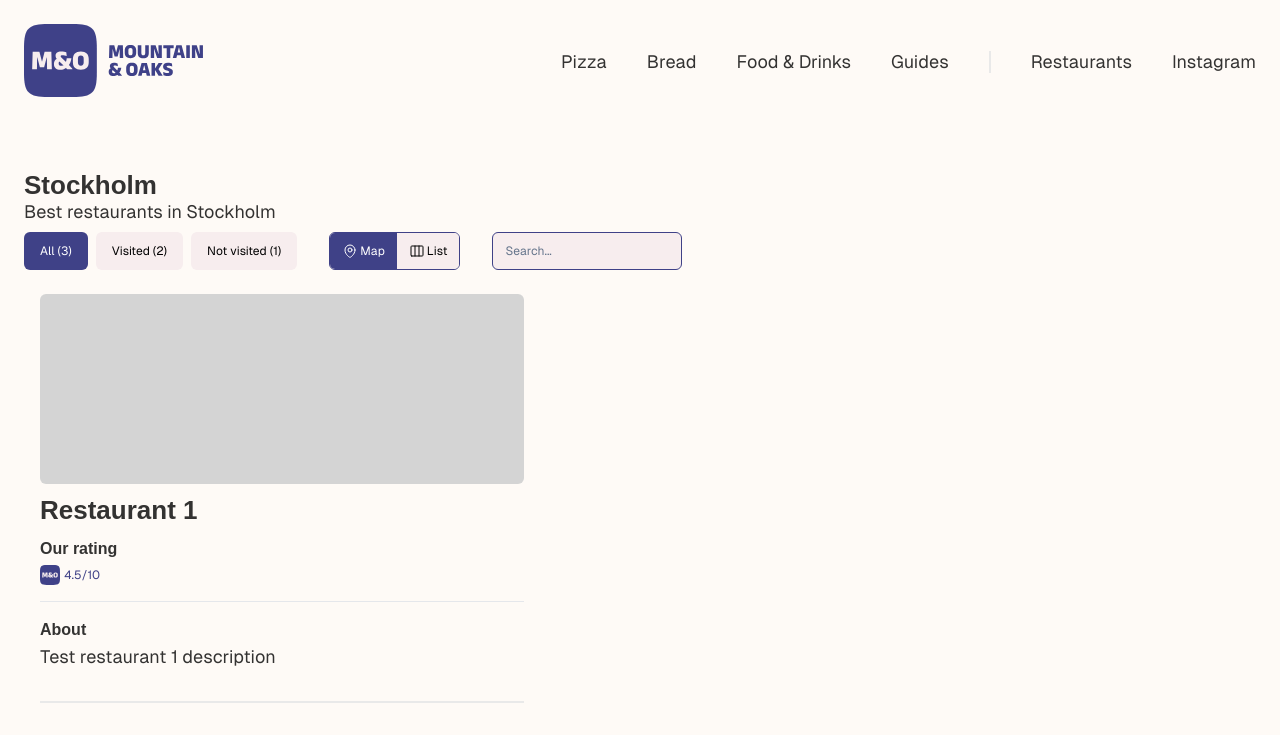
Scenario: RestaurantCity › filters restaurants based on not visited status
This screenshot has width=1280, height=735.
Click the button "Not visited (1)". click: (244, 251)
box: [191, 232, 297, 270]
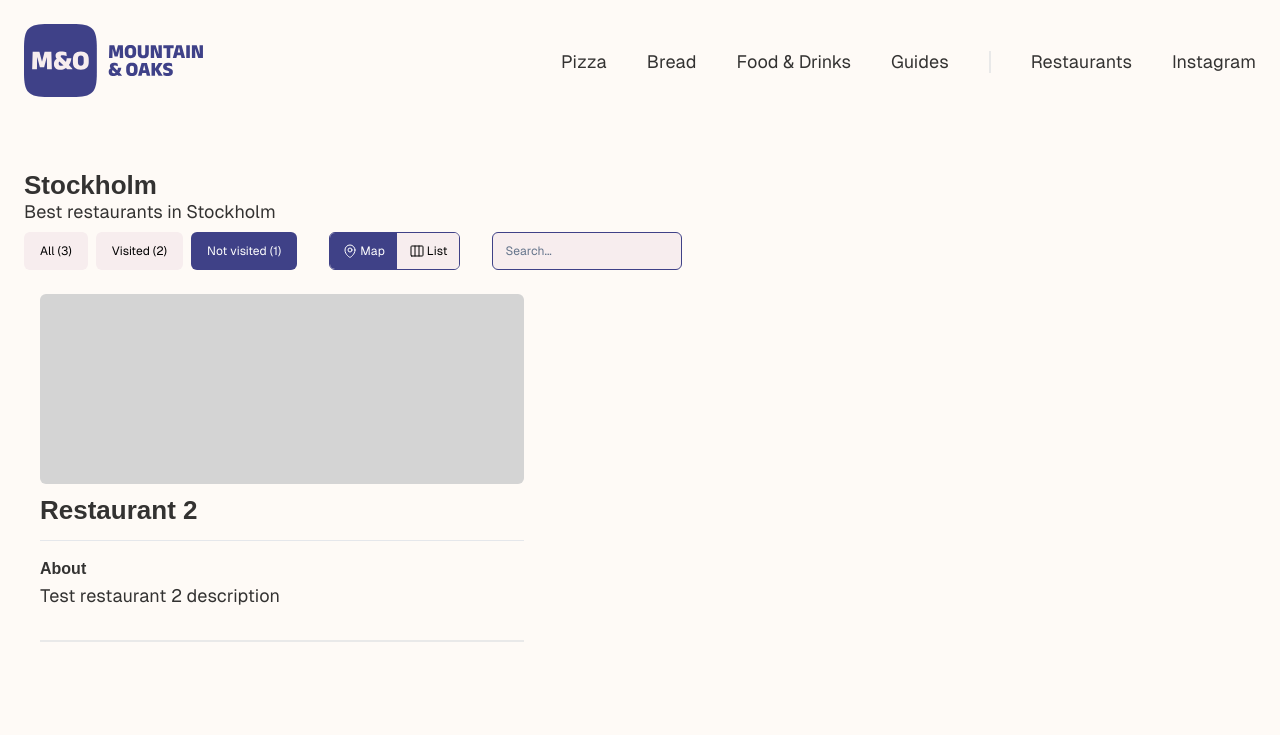
expect the heading "Restaurant 2" is shown: met, box [40, 495, 198, 525]
expect the link "Restaurant 1" is gone: met
